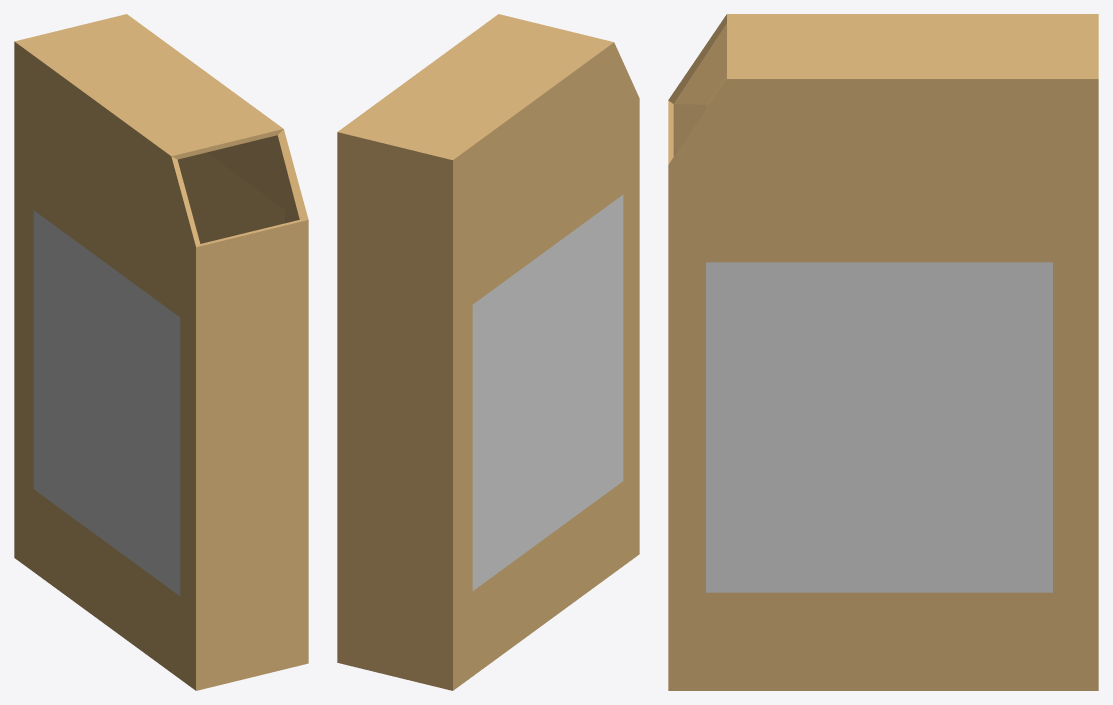
The model's file is bakingSoda.fbx.
The picture shows the model from 3 angles, left to right: view 1: azimuth 30°, elevation 25°; view 2: azimuth 150°, elevation 25°; view 3: azimuth 270°, elevation 25°; orthographic projection. The views are drawn at different scales.
Parts seen in each view (by area): view 1: Cube; view 2: Cube; view 3: Cube.
Boxes of the visible parts, <box> form: Cube: <box>14,14,308,690</box>; Cube: <box>337,14,639,690</box>; Cube: <box>668,14,1098,690</box>.
Size of the model in its own units: 13.22 by 58.04 by 37.01.
